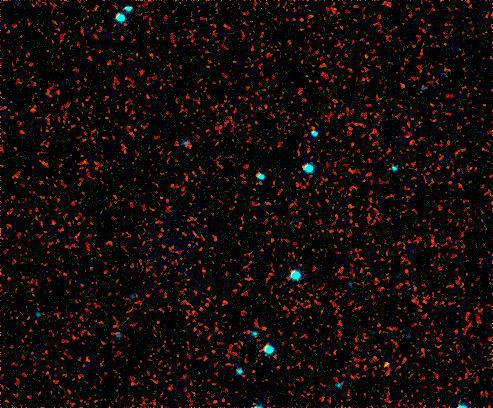star: (371, 349, 401, 379)
